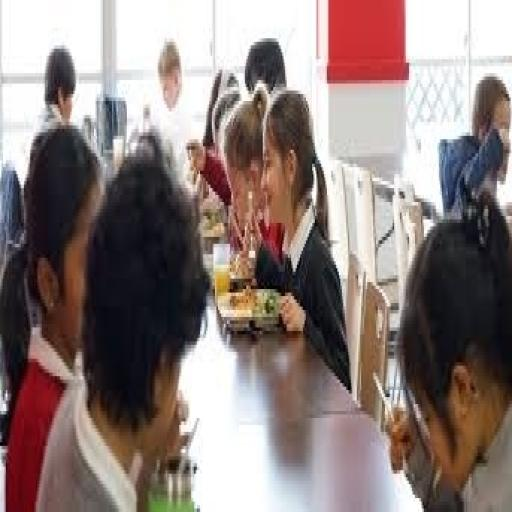eating: (33, 132, 212, 508), (1, 118, 106, 508), (391, 192, 511, 508), (245, 84, 354, 394)
